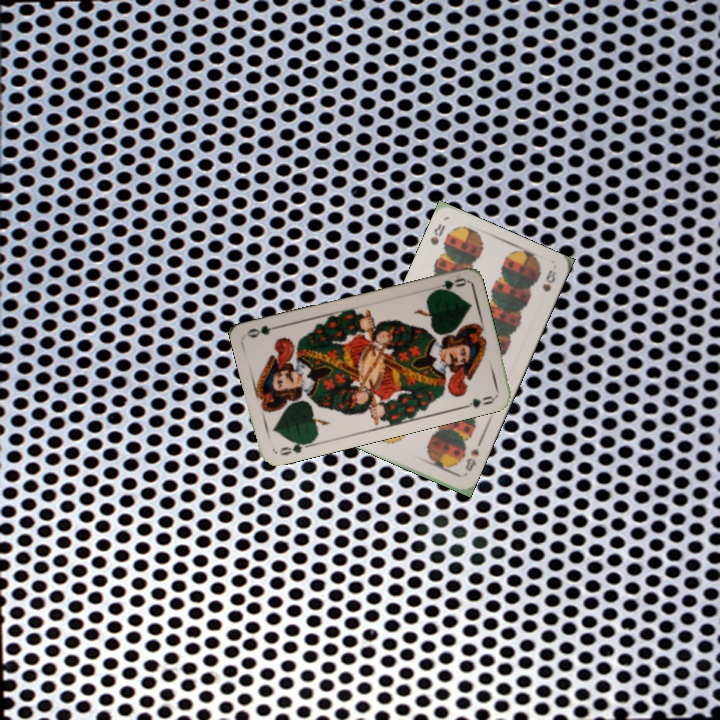GO: (428, 274, 468, 296), (275, 437, 314, 458)
S8: (426, 219, 448, 248), (461, 445, 482, 474)
